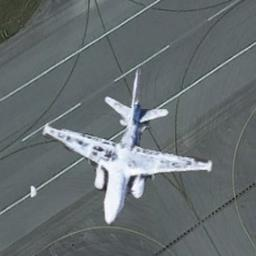Airplane: (49, 64, 214, 224)
